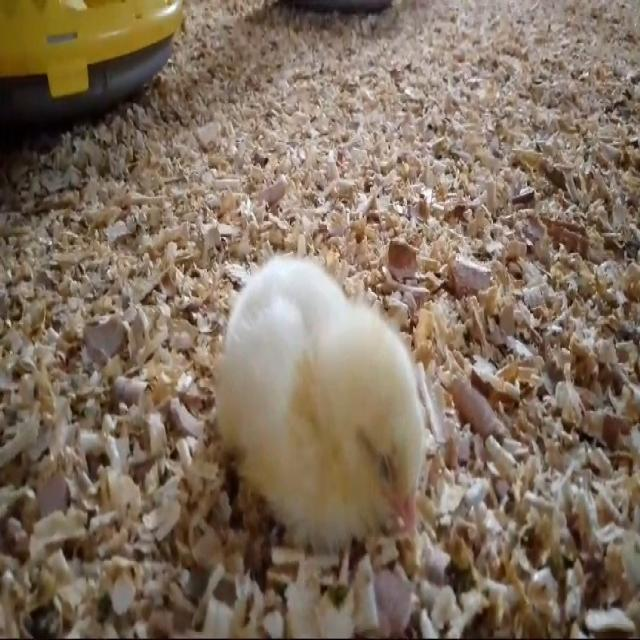sleeping chickens: (203, 248, 446, 554)
